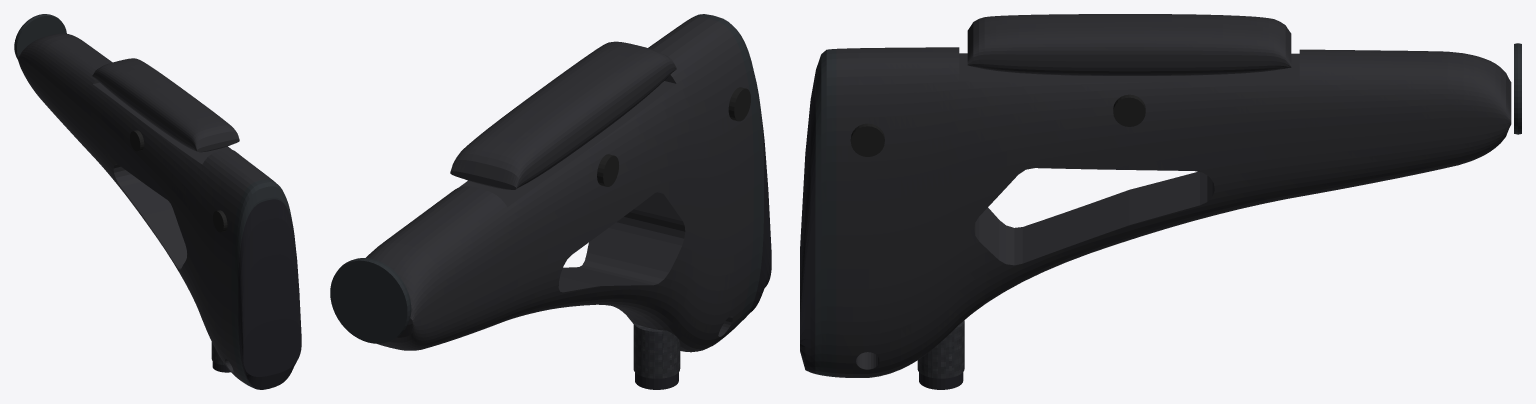
Rendered from coronha_precisao_ar_preta.glb.
3 views of the same model, side by side, from view 1: azimuth 30°, elevation 25°; view 2: azimuth 150°, elevation 25°; view 3: azimuth 270°, elevation 25° (orthographic). The views are drawn at different scales.
Visible parts, largest first — view 1: coronha_precisao_ar_preta_polimero, coronha_precisao_ar_preta_borracha, coronha_precisao_ar_preta_apoio_face_polimero, coronha_precisao_ar_preta_aco_oxidado, coronha_precisao_ar_preta_aluminio_preto; view 2: coronha_precisao_ar_preta_polimero, coronha_precisao_ar_preta_apoio_face_polimero, coronha_precisao_ar_preta_aco_oxidado, coronha_precisao_ar_preta_recartilhado, coronha_precisao_ar_preta_borracha, coronha_precisao_ar_preta_aluminio_preto; view 3: coronha_precisao_ar_preta_polimero, coronha_precisao_ar_preta_apoio_face_polimero, coronha_precisao_ar_preta_aco_oxidado, coronha_precisao_ar_preta_borracha, coronha_precisao_ar_preta_aluminio_preto, coronha_precisao_ar_preta_recartilhado.
Part boxes in pixels (x1,y1,x2,y2): coronha_precisao_ar_preta_polimero: [17, 33, 273, 384]; coronha_precisao_ar_preta_borracha: [212, 199, 301, 389]; coronha_precisao_ar_preta_apoio_face_polimero: [92, 58, 239, 152]; coronha_precisao_ar_preta_aco_oxidado: [14, 14, 293, 388]; coronha_precisao_ar_preta_aluminio_preto: [130, 130, 227, 232]; coronha_precisao_ar_preta_polimero: [366, 16, 753, 352]; coronha_precisao_ar_preta_apoio_face_polimero: [450, 41, 676, 189]; coronha_precisao_ar_preta_aco_oxidado: [330, 14, 763, 343]; coronha_precisao_ar_preta_recartilhado: [633, 323, 680, 378]; coronha_precisao_ar_preta_borracha: [635, 111, 771, 389]; coronha_precisao_ar_preta_aluminio_preto: [597, 87, 750, 186]; coronha_precisao_ar_preta_polimero: [836, 47, 1511, 377]; coronha_precisao_ar_preta_apoio_face_polimero: [967, 14, 1291, 75]; coronha_precisao_ar_preta_aco_oxidado: [815, 43, 1521, 377]; coronha_precisao_ar_preta_borracha: [800, 74, 963, 389]; coronha_precisao_ar_preta_aluminio_preto: [850, 94, 1145, 156]; coronha_precisao_ar_preta_recartilhado: [917, 320, 964, 378].
Bounding box in the file's own units: 0.044 × 0.151 × 0.2759.
6 materials, 1 textured.
